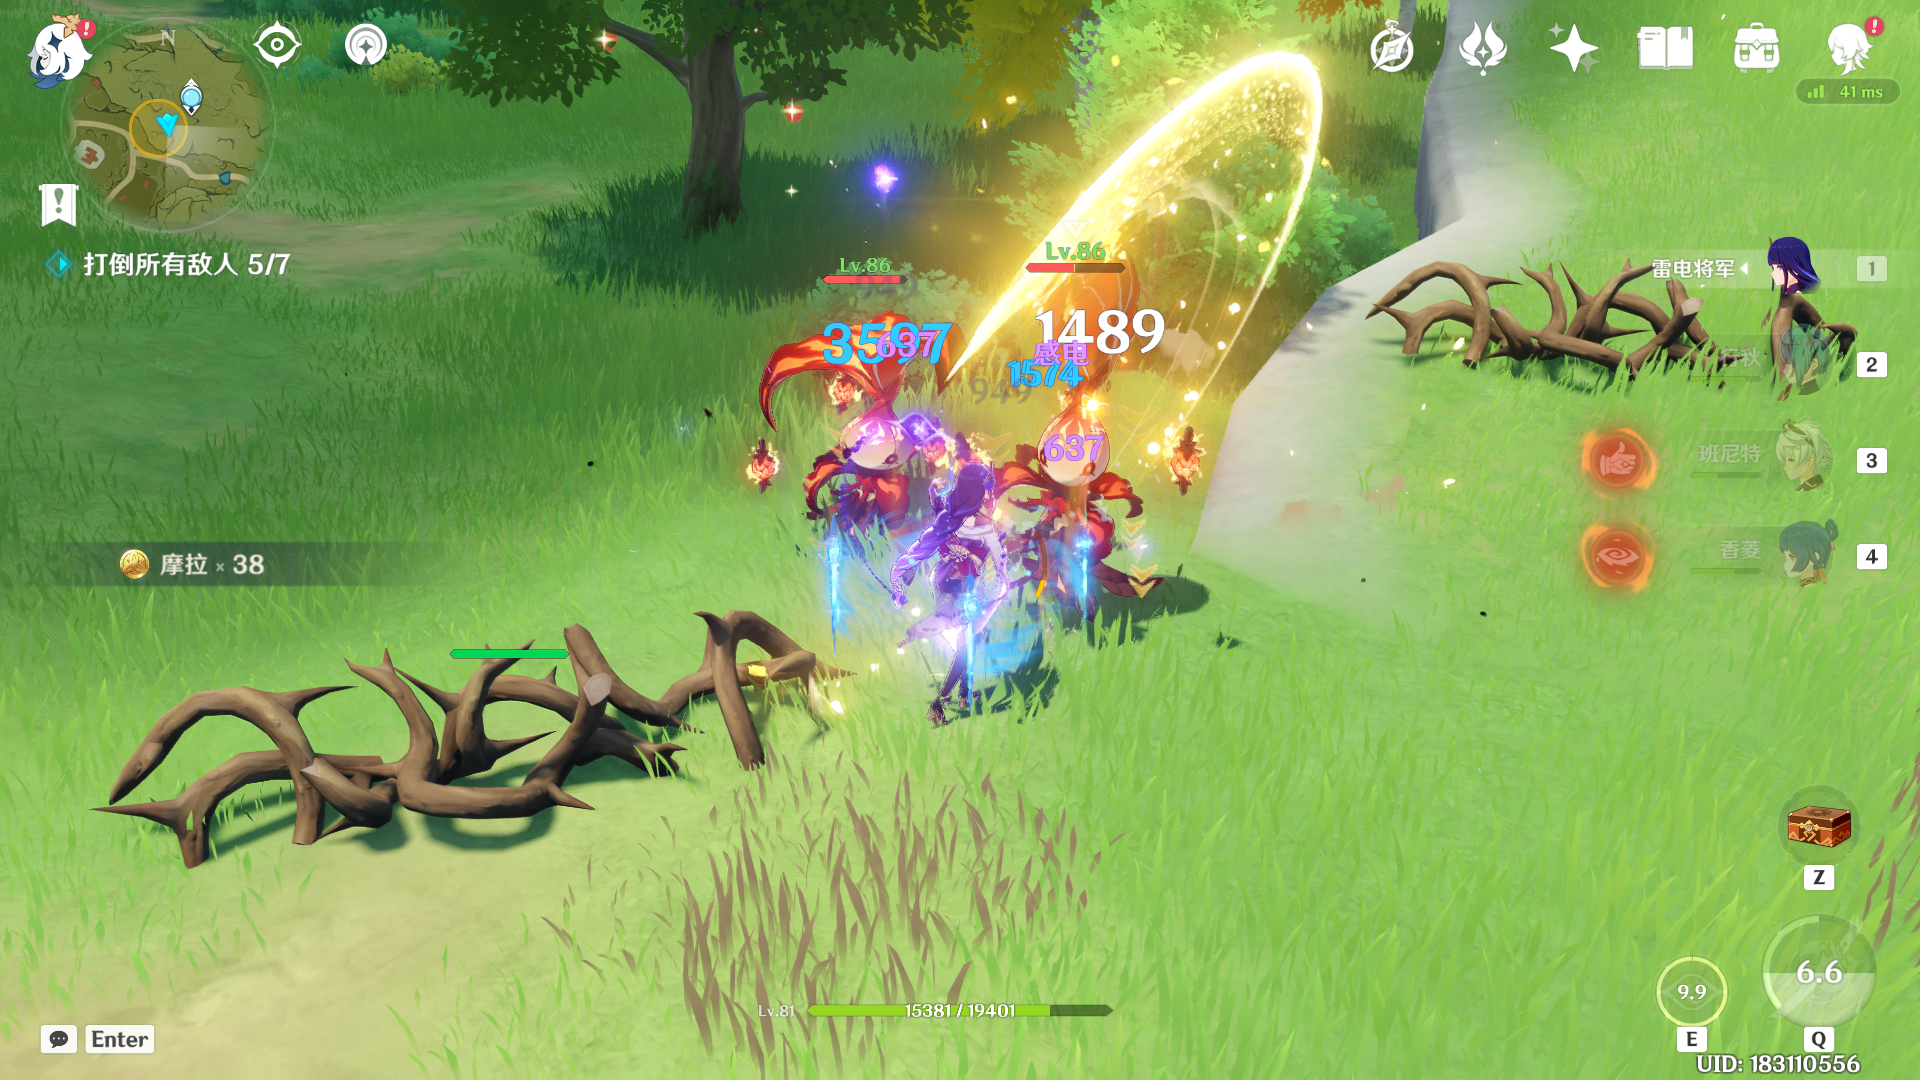character: (866, 430, 1076, 795)
